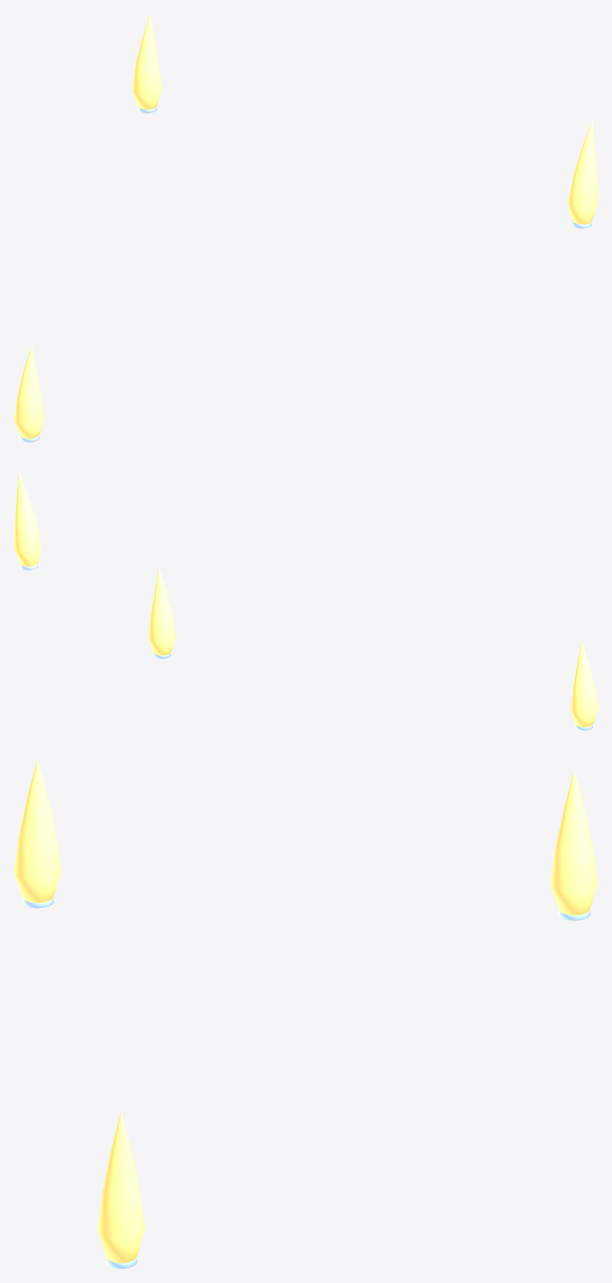
File: flames.glb
3 views of the same model, one above another, from view 1: azimuth 30°, elevation 25°; view 2: azimuth 150°, elevation 25°; view 3: azimuth 270°, elevation 25° (orthographic). The views are drawn at different scales.
Visible parts, largest first — view 1: Hero flame • warm outer envelope.005, Hero flame • warm outer envelope.004, Hero flame • warm outer envelope.003; view 2: Hero flame • warm outer envelope.005, Hero flame • warm outer envelope.004, Hero flame • warm outer envelope.003; view 3: Hero flame • warm outer envelope.005, Hero flame • warm outer envelope.004, Hero flame • warm outer envelope.003.
Part boxes in pixels (box(x1,y1,x2,y2)): Hero flame • warm outer envelope.005: box(567, 120, 597, 224); Hero flame • warm outer envelope.004: box(132, 15, 161, 109); Hero flame • warm outer envelope.003: box(14, 345, 44, 438); Hero flame • warm outer envelope.005: box(14, 472, 41, 566); Hero flame • warm outer envelope.004: box(148, 568, 175, 655); Hero flame • warm outer envelope.003: box(570, 642, 597, 727); Hero flame • warm outer envelope.005: box(97, 1112, 144, 1263); Hero flame • warm outer envelope.004: box(550, 770, 597, 915); Hero flame • warm outer envelope.003: box(14, 759, 61, 902).
Bounding box in the file's own units: 0.1574 × 0.0572 × 0.0838.
